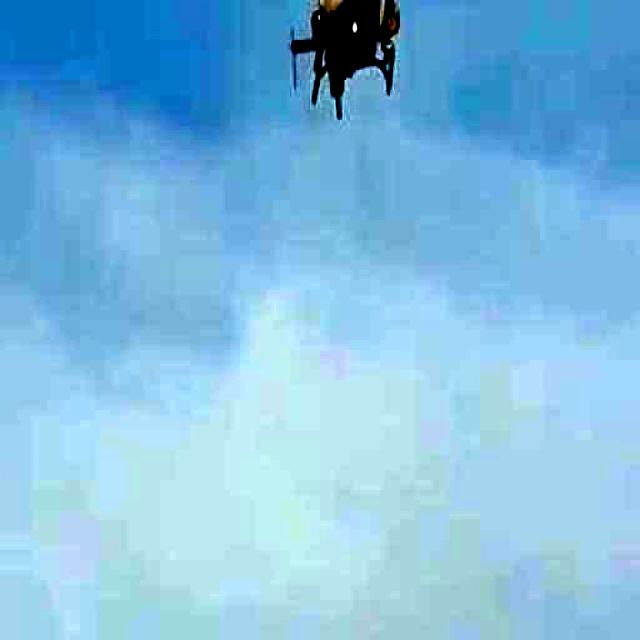drone: (224, 0, 494, 106)
